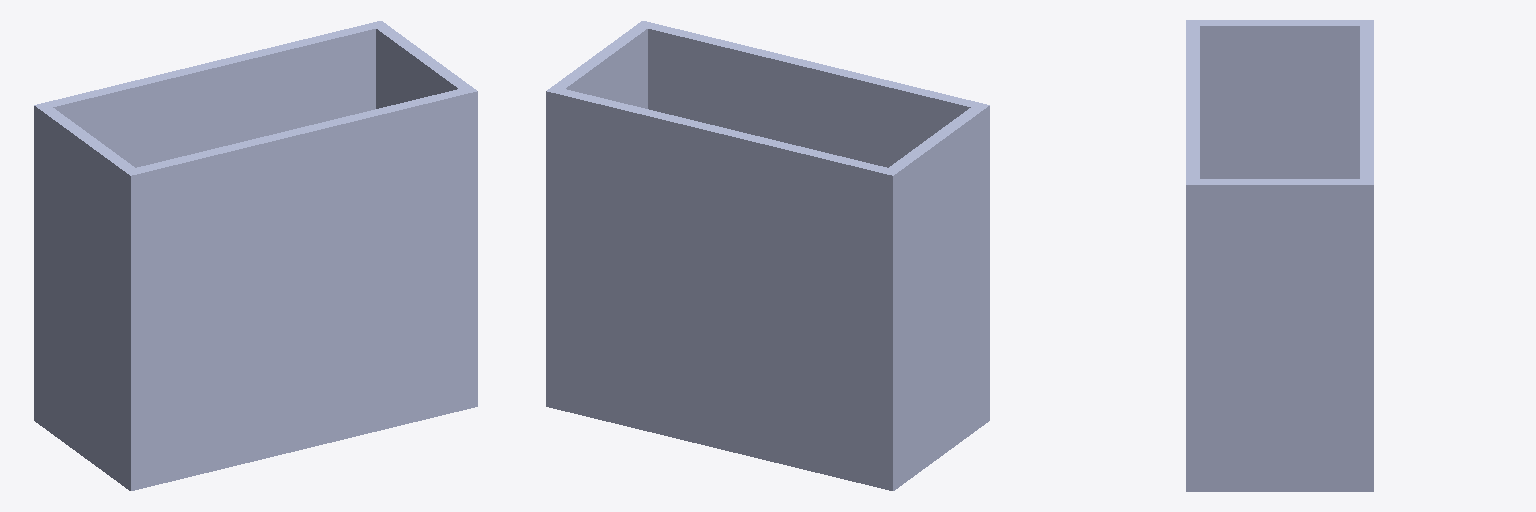
robot.urdf — w311:
<?xml version="1.0" encoding="utf-8"?>
<!-- This URDF was automatically created by SolidWorks to URDF Exporter! Originally created by [author] ([email redacted]) 
     Commit Version: 1.6.0-1-g15f4949  Build Version: 1.6.7594.29634
     For more information, please see http://wiki.ros.org/sw_urdf_exporter -->
<robot
  name="w311">
  <link
    name="base_link">
    <inertial>
      <origin
        xyz="1.44 0.693499999999999 1.25"
        rpy="0 0 0" />
      <mass
        value="2033.5" />
      <inertia
        ixx="1726.29268179167"
        ixy="-2.82566016533224E-13"
        ixz="5.72003258435753E-13"
        iyy="3201.63851666667"
        iyz="5.25690602160007E-14"
        izz="2809.70203179167" />
    </inertial>
    <visual>
      <origin
        xyz="0 0 0"
        rpy="0 0 0" />
      <geometry>
        <mesh
          filename="package://w311/meshes/base_link.STL" />
      </geometry>
      <material
        name="">
        <color
          rgba="0.792156862745098 0.819607843137255 0.933333333333333 1" />
      </material>
    </visual>
    <collision>
      <origin
        xyz="0 0 0"
        rpy="0 0 0" />
      <geometry>
        <mesh
          filename="package://w311/meshes/base_link.STL" />
      </geometry>
    </collision>
  </link>
</robot>

--- What the picture shows (computed from the rendered views, not written in the file) ---
Views: 3 orthographic renders of the robot side by side, from view 1: azimuth 30°, elevation 25°; view 2: azimuth 150°, elevation 25°; view 3: azimuth 270°, elevation 25°.
Robot: w311 — 1 links, 0 joints (none); root link base_link; default pose: all joints at 0.
Visible links, largest first — view 1: base_link; view 2: base_link; view 3: base_link.
Boxes of the visible links, x1=… form: base_link: x1=34, y1=21, x2=477, y2=490; base_link: x1=546, y1=21, x2=989, y2=490; base_link: x1=1186, y1=20, x2=1373, y2=491.
Bounding box of the posed robot: 2.88 × 1.39 × 2.5 m (x, y, z).
1 mesh visuals loaded from 1 distinct referenced files (1 binary STL).